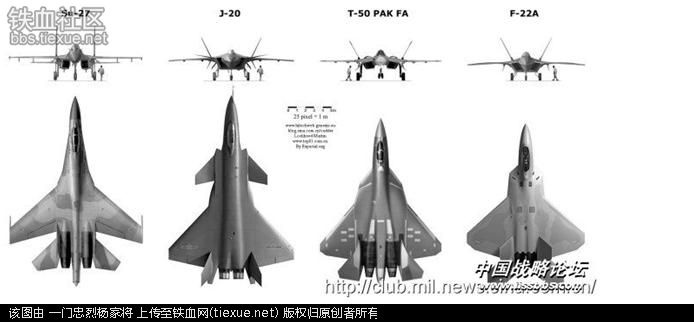airplane: (166, 86, 300, 297), (9, 94, 148, 290), (467, 120, 589, 292), (318, 119, 442, 284), (4, 24, 143, 82), (313, 33, 444, 88), (165, 34, 295, 84), (466, 33, 592, 81)
